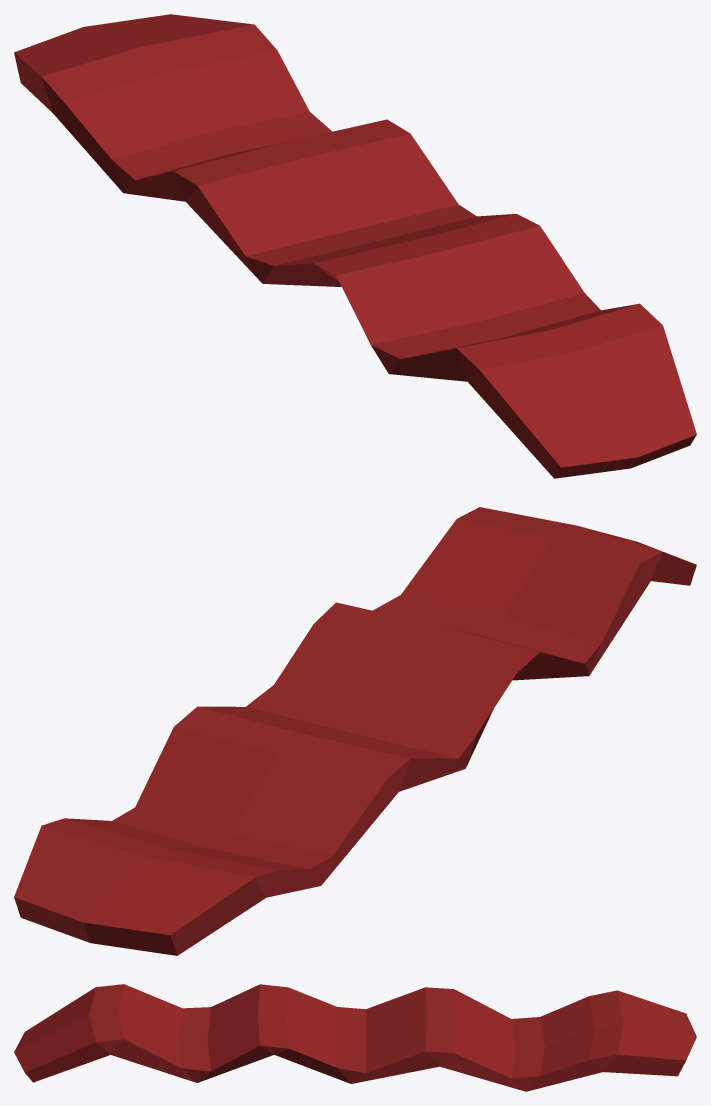
The model's file is food_slice_bacon.FBX.
3 renders of one model, top to bottom at view 1: azimuth 30°, elevation 25°; view 2: azimuth 150°, elevation 25°; view 3: azimuth 270°, elevation 25°, orthographic. The views are drawn at different scales.
Visible parts, largest first — view 1: food_slice_bacon; view 2: food_slice_bacon; view 3: food_slice_bacon.
Part boxes in pixels (x1,y1,x2,y2): food_slice_bacon: (14,14,696,478); food_slice_bacon: (14,507,696,955); food_slice_bacon: (14,984,696,1091).
Size of the model in its own units: 49.22 by 18.04 by 221.
